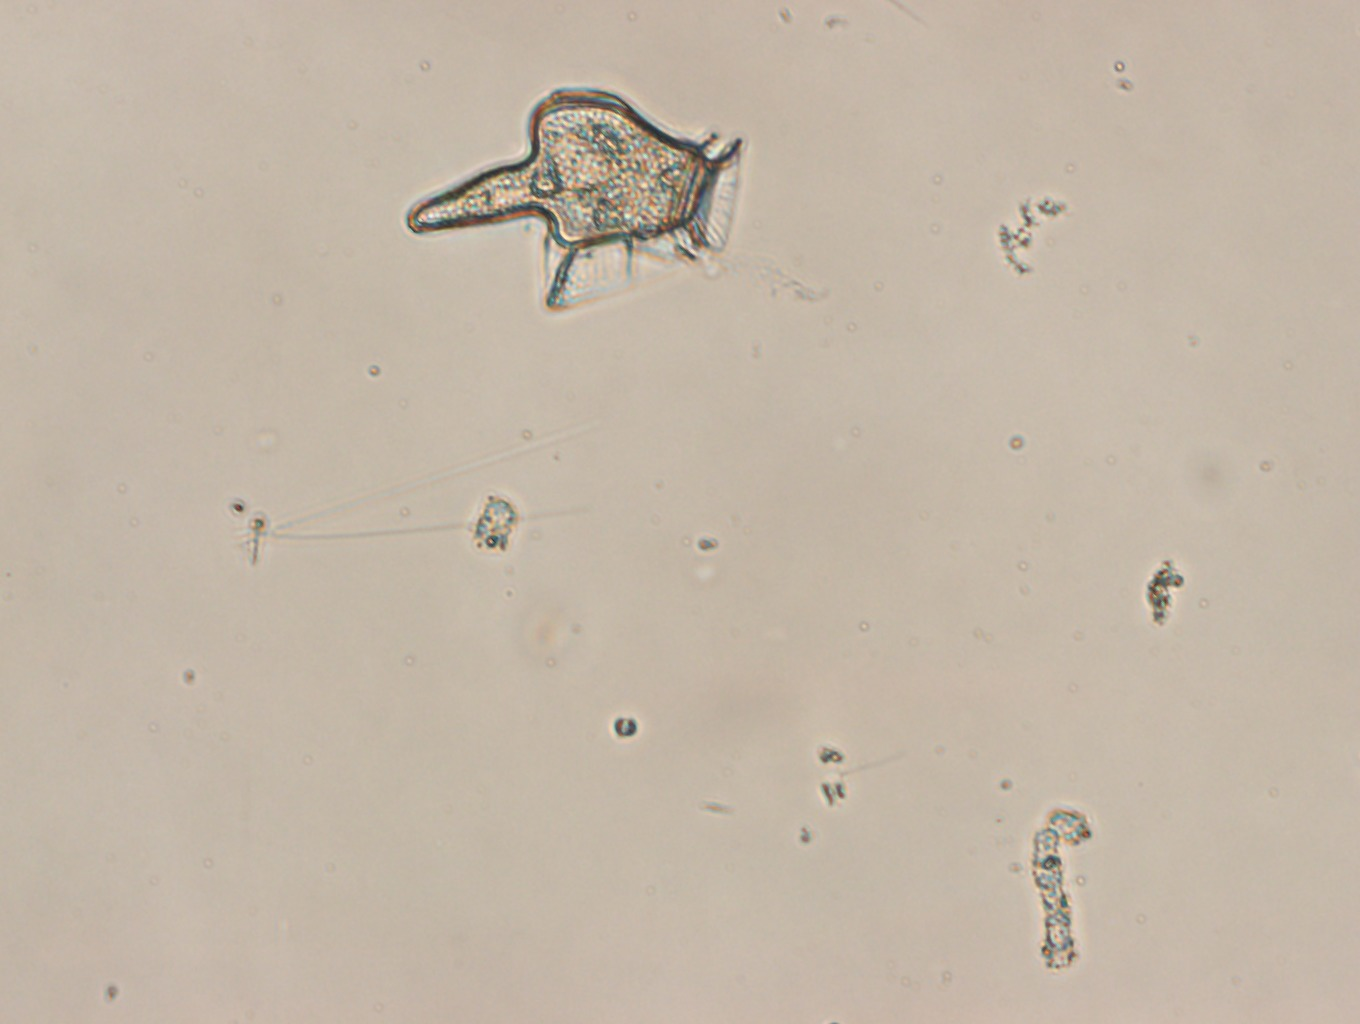dinophysis caudata: (404, 85, 744, 316)
